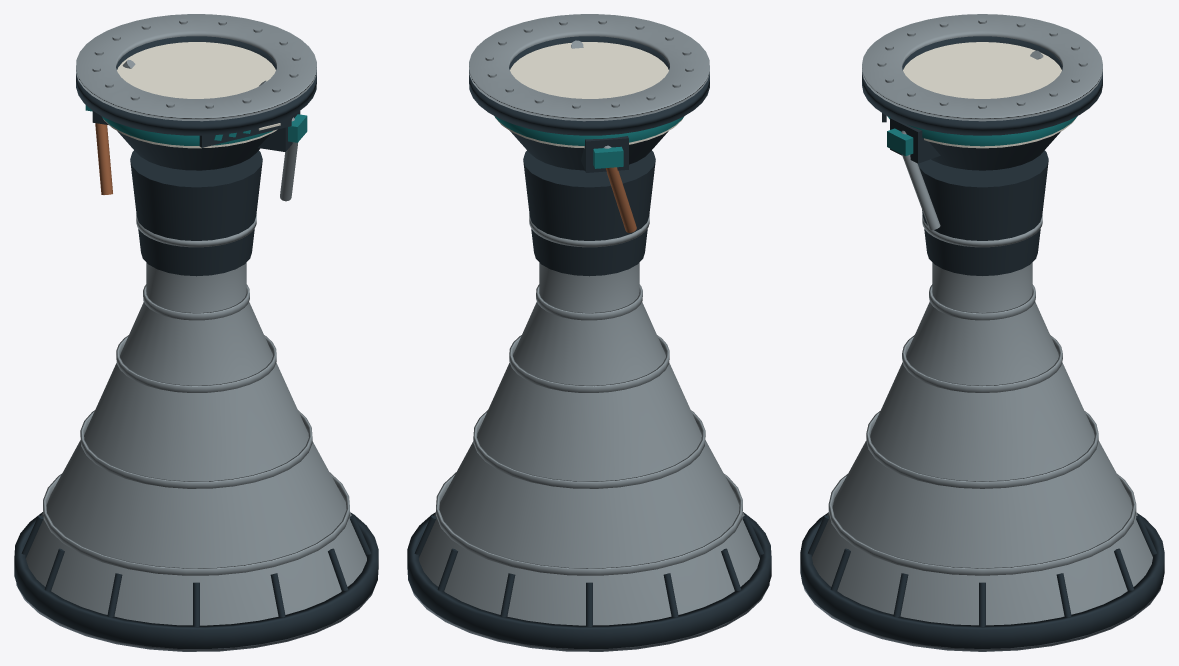
File: k_155v_dalniy.glb
The picture shows the model from 3 angles, left to right: view 1: azimuth 30°, elevation 25°; view 2: azimuth 150°, elevation 25°; view 3: azimuth 270°, elevation 25°; orthographic projection.
Visible parts, largest first — view 1: k_155v_dalniy.gimbal_pitch.gimbal_yaw.nozzle.mesh_JUGRE_·_be, k_155v_dalniy.upper_hardware.mesh_JUGRE_·_bead-blasted_titan, k_155v_dalniy.gimbal_pitch.gimbal_yaw.nozzle.mesh_JUGRE_·_gr, k_155v_dalniy.gimbal_pitch.gimbal_yaw.mesh_JUGRE_·_graphite_, k_155v_dalniy.upper_hardware.mesh_JUGRE_·_graphite_composite, k_155v_dalniy.upper_hardware.mesh_JUGRE_·_bone_ceramic, k_155v_dalniy.gimbal_pitch.gimbal_yaw.nozzle.mesh_Machined_s, k_155v_dalniy.upper_hardware.mesh_JUGRE_·_signal_teal, k_155v_dalniy.upper_hardware.mesh_JUGRE_·_heat-resistant_cop, k_155v_dalniy.gimbal_pitch.gimbal_yaw.mesh_JUGRE_·_bead-blas, k_155v_dalniy.upper_hardware.mark_0.mesh_JUGRE_·_graphite_co, k_155v_dalniy.upper_hardware.pump_01.mesh_JUGRE_·_graphite_c; view 2: k_155v_dalniy.gimbal_pitch.gimbal_yaw.nozzle.mesh_JUGRE_·_be, k_155v_dalniy.upper_hardware.mesh_JUGRE_·_bead-blasted_titan, k_155v_dalniy.gimbal_pitch.gimbal_yaw.nozzle.mesh_JUGRE_·_gr, k_155v_dalniy.gimbal_pitch.gimbal_yaw.mesh_JUGRE_·_graphite_, k_155v_dalniy.upper_hardware.mesh_JUGRE_·_bone_ceramic, k_155v_dalniy.upper_hardware.mesh_JUGRE_·_graphite_composite, k_155v_dalniy.upper_hardware.mesh_JUGRE_·_signal_teal, k_155v_dalniy.gimbal_pitch.gimbal_yaw.nozzle.mesh_Machined_s, k_155v_dalniy.upper_hardware.pump_02.mesh_JUGRE_·_graphite_c, k_155v_dalniy.gimbal_pitch.gimbal_yaw.mesh_JUGRE_·_bead-blas, k_155v_dalniy.upper_hardware.mesh_JUGRE_·_heat-resistant_cop, k_155v_dalniy.upper_hardware.pump_02.mesh_JUGRE_·_signal_tea; view 3: k_155v_dalniy.gimbal_pitch.gimbal_yaw.nozzle.mesh_JUGRE_·_be, k_155v_dalniy.upper_hardware.mesh_JUGRE_·_bead-blasted_titan, k_155v_dalniy.gimbal_pitch.gimbal_yaw.nozzle.mesh_JUGRE_·_gr, k_155v_dalniy.gimbal_pitch.gimbal_yaw.mesh_JUGRE_·_graphite_, k_155v_dalniy.upper_hardware.mesh_JUGRE_·_bone_ceramic, k_155v_dalniy.upper_hardware.mesh_JUGRE_·_graphite_composite, k_155v_dalniy.upper_hardware.mesh_JUGRE_·_signal_teal, k_155v_dalniy.gimbal_pitch.gimbal_yaw.nozzle.mesh_Machined_s, k_155v_dalniy.gimbal_pitch.gimbal_yaw.mesh_JUGRE_·_bead-blas, k_155v_dalniy.upper_hardware.pump_01.mesh_JUGRE_·_graphite_c, k_155v_dalniy.upper_hardware.pump_01.mesh_JUGRE_·_signal_tea.
Boxes of the visible parts, <box> form: k_155v_dalniy.gimbal_pitch.gimbal_yaw.nozzle.mesh_JUGRE_·_be: <box>26,262,366,625</box>; k_155v_dalniy.upper_hardware.mesh_JUGRE_·_bead-blasted_titan: <box>76,14,316,201</box>; k_155v_dalniy.gimbal_pitch.gimbal_yaw.nozzle.mesh_JUGRE_·_gr: <box>14,512,378,648</box>; k_155v_dalniy.gimbal_pitch.gimbal_yaw.mesh_JUGRE_·_graphite_: <box>130,150,262,276</box>; k_155v_dalniy.upper_hardware.mesh_JUGRE_·_graphite_composite: <box>76,36,316,170</box>; k_155v_dalniy.upper_hardware.mesh_JUGRE_·_bone_ceramic: <box>103,42,277,148</box>; k_155v_dalniy.gimbal_pitch.gimbal_yaw.nozzle.mesh_Machined_s: <box>16,583,375,651</box>; k_155v_dalniy.upper_hardware.mesh_JUGRE_·_signal_teal: <box>101,116,272,145</box>; k_155v_dalniy.upper_hardware.mesh_JUGRE_·_heat-resistant_cop: <box>95,123,112,194</box>; k_155v_dalniy.gimbal_pitch.gimbal_yaw.mesh_JUGRE_·_bead-blas: <box>136,214,256,247</box>; k_155v_dalniy.upper_hardware.mark_0.mesh_JUGRE_·_graphite_co: <box>199,116,291,147</box>; k_155v_dalniy.upper_hardware.pump_01.mesh_JUGRE_·_graphite_c: <box>258,111,300,151</box>; k_155v_dalniy.gimbal_pitch.gimbal_yaw.nozzle.mesh_JUGRE_·_be: <box>419,262,759,625</box>; k_155v_dalniy.upper_hardware.mesh_JUGRE_·_bead-blasted_titan: <box>469,14,709,148</box>; k_155v_dalniy.gimbal_pitch.gimbal_yaw.nozzle.mesh_JUGRE_·_gr: <box>407,512,771,648</box>; k_155v_dalniy.gimbal_pitch.gimbal_yaw.mesh_JUGRE_·_graphite_: <box>523,150,655,276</box>; k_155v_dalniy.upper_hardware.mesh_JUGRE_·_bone_ceramic: <box>495,42,682,148</box>; k_155v_dalniy.upper_hardware.mesh_JUGRE_·_graphite_composite: <box>469,36,709,170</box>; k_155v_dalniy.upper_hardware.mesh_JUGRE_·_signal_teal: <box>494,116,684,145</box>; k_155v_dalniy.gimbal_pitch.gimbal_yaw.nozzle.mesh_Machined_s: <box>410,583,769,651</box>; k_155v_dalniy.upper_hardware.pump_02.mesh_JUGRE_·_graphite_c: <box>581,136,628,172</box>; k_155v_dalniy.gimbal_pitch.gimbal_yaw.mesh_JUGRE_·_bead-blas: <box>529,214,649,247</box>; k_155v_dalniy.upper_hardware.mesh_JUGRE_·_heat-resistant_cop: <box>605,167,636,232</box>; k_155v_dalniy.upper_hardware.pump_02.mesh_JUGRE_·_signal_tea: <box>593,146,623,168</box>; k_155v_dalniy.gimbal_pitch.gimbal_yaw.nozzle.mesh_JUGRE_·_be: <box>812,262,1152,625</box>; k_155v_dalniy.upper_hardware.mesh_JUGRE_·_bead-blasted_titan: <box>862,14,1102,230</box>; k_155v_dalniy.gimbal_pitch.gimbal_yaw.nozzle.mesh_JUGRE_·_gr: <box>800,513,1164,648</box>; k_155v_dalniy.gimbal_pitch.gimbal_yaw.mesh_JUGRE_·_graphite_: <box>918,150,1048,275</box>; k_155v_dalniy.upper_hardware.mesh_JUGRE_·_bone_ceramic: <box>903,42,1074,148</box>; k_155v_dalniy.upper_hardware.mesh_JUGRE_·_graphite_composite: <box>862,36,1102,170</box>; k_155v_dalniy.upper_hardware.mesh_JUGRE_·_signal_teal: <box>887,116,1077,146</box>; k_155v_dalniy.gimbal_pitch.gimbal_yaw.nozzle.mesh_Machined_s: <box>803,586,1161,651</box>; k_155v_dalniy.gimbal_pitch.gimbal_yaw.mesh_JUGRE_·_bead-blas: <box>922,214,1042,247</box>; k_155v_dalniy.upper_hardware.pump_01.mesh_JUGRE_·_graphite_c: <box>890,118,940,163</box>; k_155v_dalniy.upper_hardware.pump_01.mesh_JUGRE_·_signal_tea: <box>887,128,913,156</box>.
Size of the model in its own units: 1.24 by 1.92 by 1.24.
